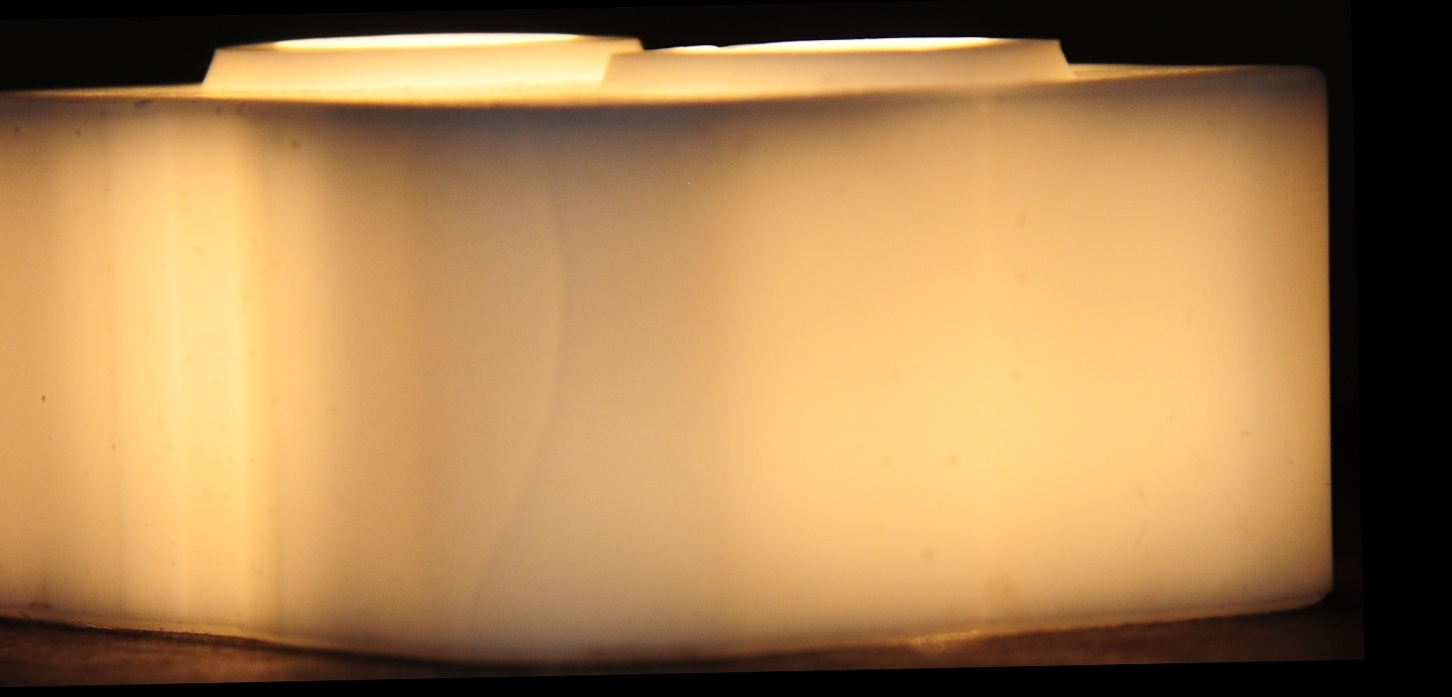flaw: (460, 98, 580, 670)
